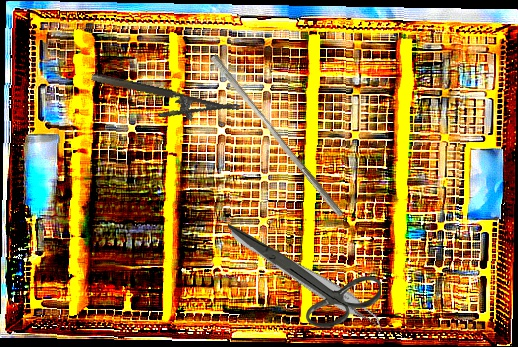Iris Scissors: (228, 220, 382, 330)
Needle Holder: (86, 71, 241, 134)
Pusher: (204, 53, 351, 219)
Tissue Forceps: (223, 225, 391, 336)
